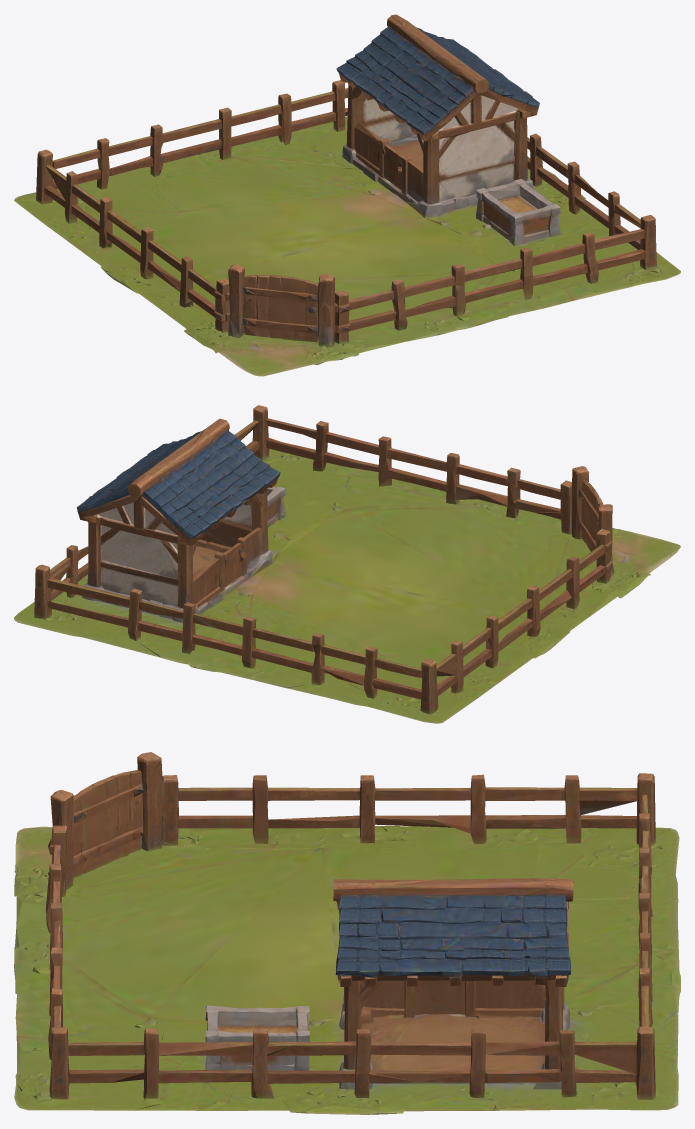
The model's file is pasture.glb.
3 views of the same model, one above another, from view 1: azimuth 30°, elevation 25°; view 2: azimuth 150°, elevation 25°; view 3: azimuth 270°, elevation 25° (orthographic). The views are drawn at different scales.
Size of the model in its own units: 1.9 by 0.5455 by 1.86.
1 material, 1 textured.
